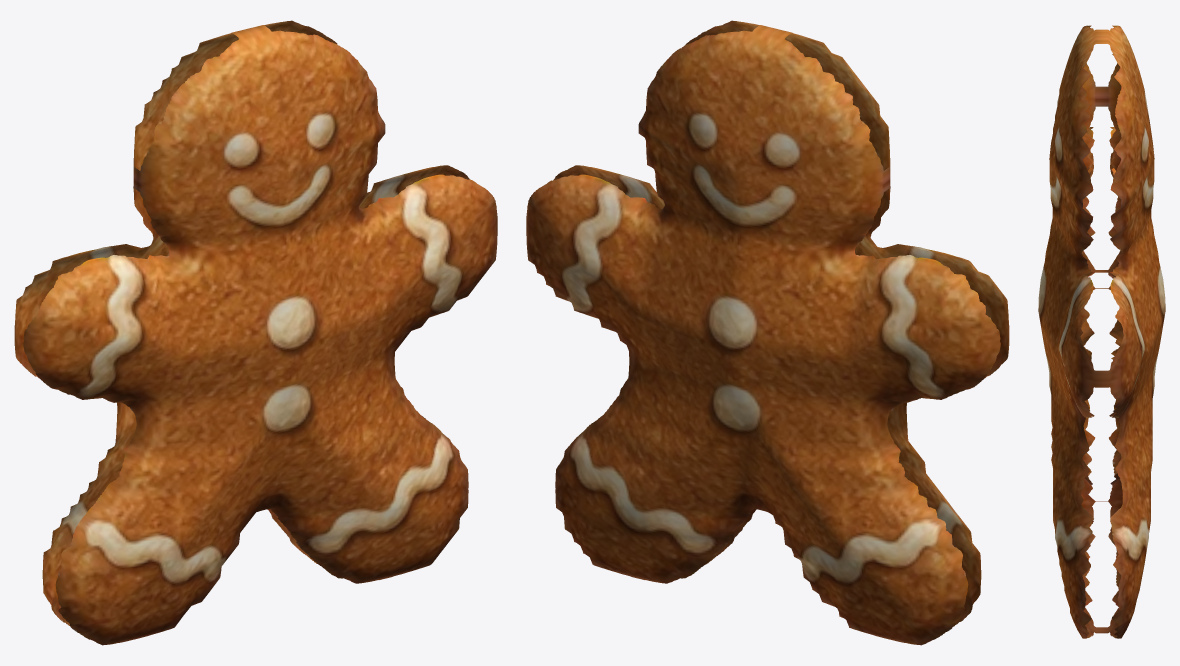
The model's file is Item_cookie.glb.
The picture shows the model from 3 angles, left to right: view 1: azimuth 30°, elevation 25°; view 2: azimuth 150°, elevation 25°; view 3: azimuth 270°, elevation 25°; orthographic projection. The views are drawn at different scales.
Parts seen in each view (by area): view 1: Item_cookie carving; view 2: Item_cookie carving; view 3: Item_cookie carving.
Part boxes in pixels (x1,y1,x2,y2): Item_cookie carving: (14,20,497,645); Item_cookie carving: (526,20,1009,645); Item_cookie carving: (1038,25,1165,638).
Size of the model in its own units: 0.2478 by 0.2866 by 0.062.
Materials: 1 (1 with a texture image).
